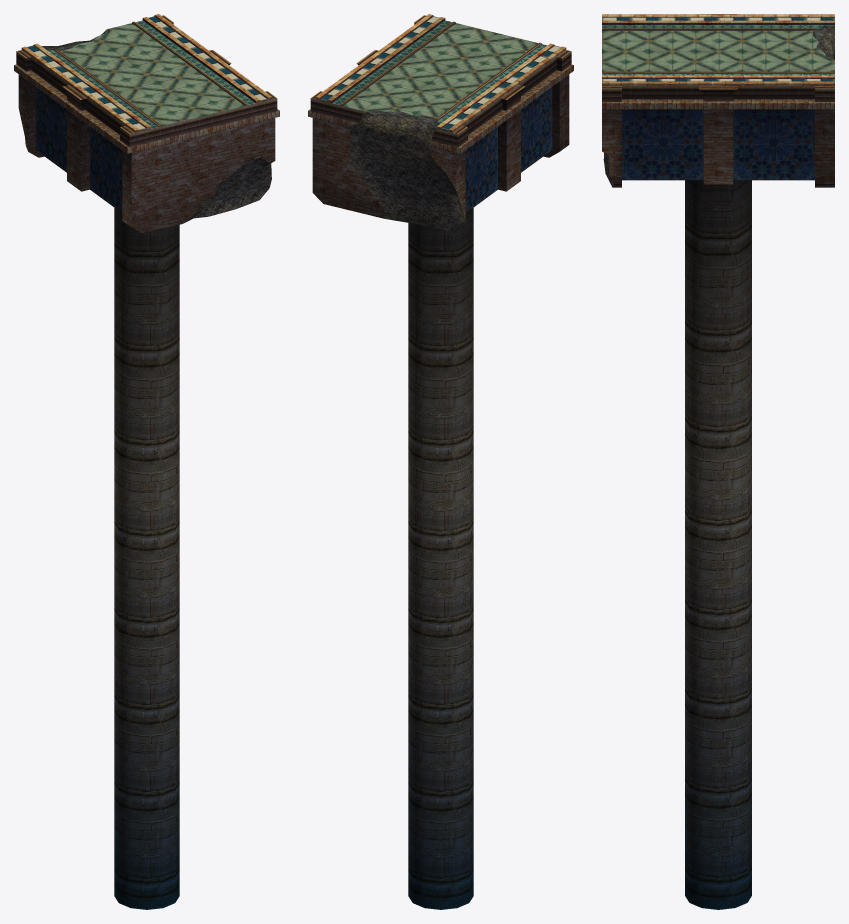
File: BridgeOneLeg.gltf
3 views of the same model, side by side, from view 1: azimuth 30°, elevation 25°; view 2: azimuth 150°, elevation 25°; view 3: azimuth 270°, elevation 25° (orthographic). The views are drawn at different scales.
Visible parts, largest first — view 1: BridgeOneLegMesh; view 2: BridgeOneLegMesh; view 3: BridgeOneLegMesh.
Part boxes in pixels (x1=…): BridgeOneLegMesh: x1=14, y1=14, x2=279, y2=909; BridgeOneLegMesh: x1=308, y1=14, x2=573, y2=909; BridgeOneLegMesh: x1=602, y1=14, x2=834, y2=909.
Bounding box in the file's own units: 7.77 × 40.12 × 10.
Materials: 5 (5 with a texture image).
